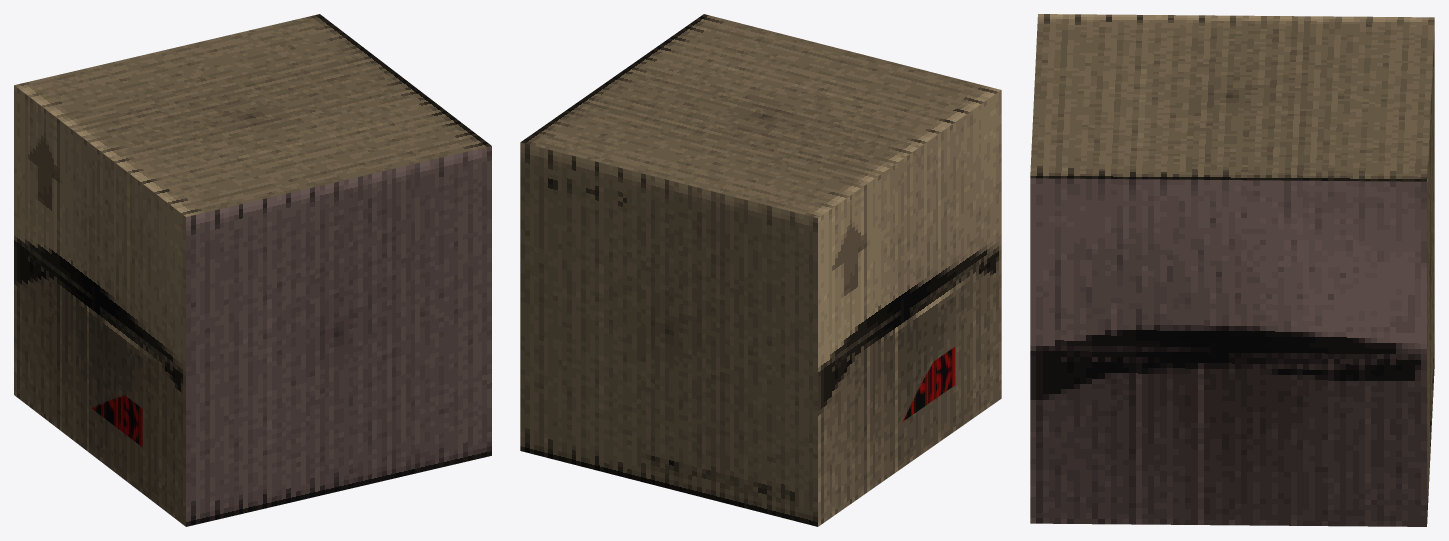
The model's file is primary_113.glb.
The picture shows the model from 3 angles, left to right: view 1: azimuth 30°, elevation 25°; view 2: azimuth 150°, elevation 25°; view 3: azimuth 270°, elevation 25°; orthographic projection. The views are drawn at different scales.
Visible parts, largest first — view 1: Object; view 2: Object; view 3: Object.
Boxes of the visible parts, bbox=[...] form: Object: bbox=[14, 14, 491, 526]; Object: bbox=[520, 14, 1001, 526]; Object: bbox=[1030, 14, 1434, 526].
Size of the model in its own units: 1.12 by 1.07 by 1.14.
7 materials, 7 textured.
